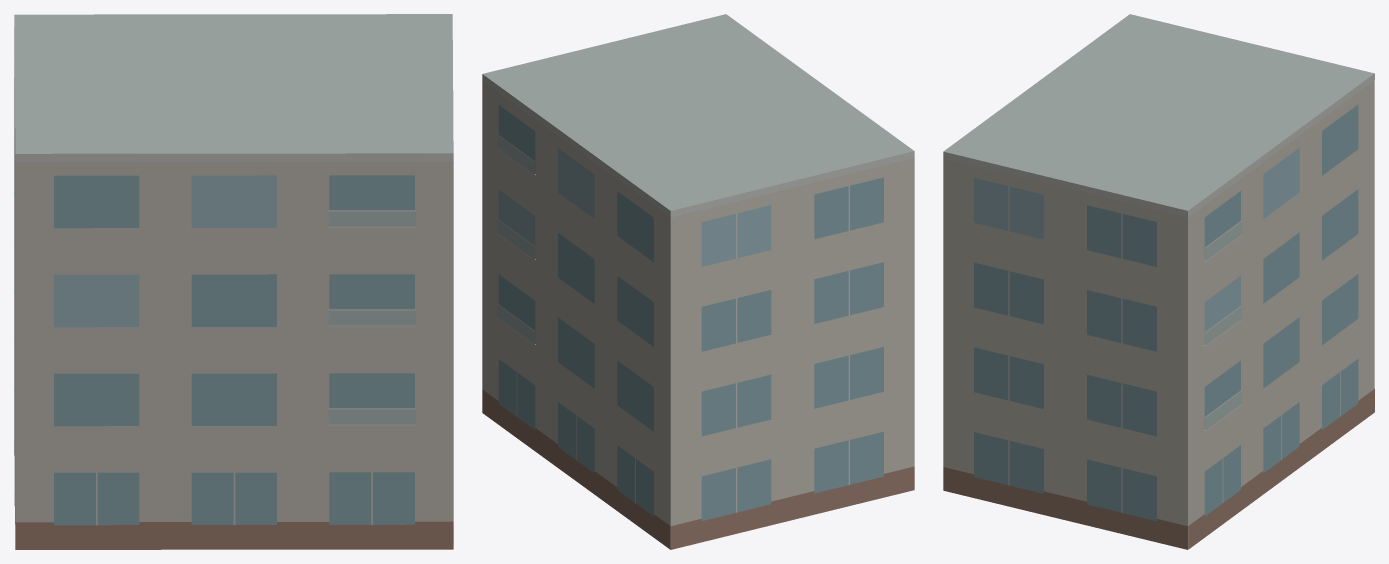
The model's file is residential-f1ff5b85-1b6d-4905-80f6-0ea336bc819a.glb.
The picture shows the model from 3 angles, left to right: view 1: azimuth 30°, elevation 25°; view 2: azimuth 150°, elevation 25°; view 3: azimuth 270°, elevation 25°; orthographic projection. The views are drawn at different scales.
Parts seen in each view (by area): view 1: residential-f1ff5b85-1b6d-4905-80f6-0ea336bc819a.tmp; view 2: residential-f1ff5b85-1b6d-4905-80f6-0ea336bc819a.tmp; view 3: residential-f1ff5b85-1b6d-4905-80f6-0ea336bc819a.tmp.
Part boxes in pixels (bbox=[...]): residential-f1ff5b85-1b6d-4905-80f6-0ea336bc819a.tmp: bbox=[14, 14, 453, 549]; residential-f1ff5b85-1b6d-4905-80f6-0ea336bc819a.tmp: bbox=[482, 14, 914, 549]; residential-f1ff5b85-1b6d-4905-80f6-0ea336bc819a.tmp: bbox=[943, 14, 1374, 549].
Size of the model in its own units: 15.2 by 12.2 by 14.08.
